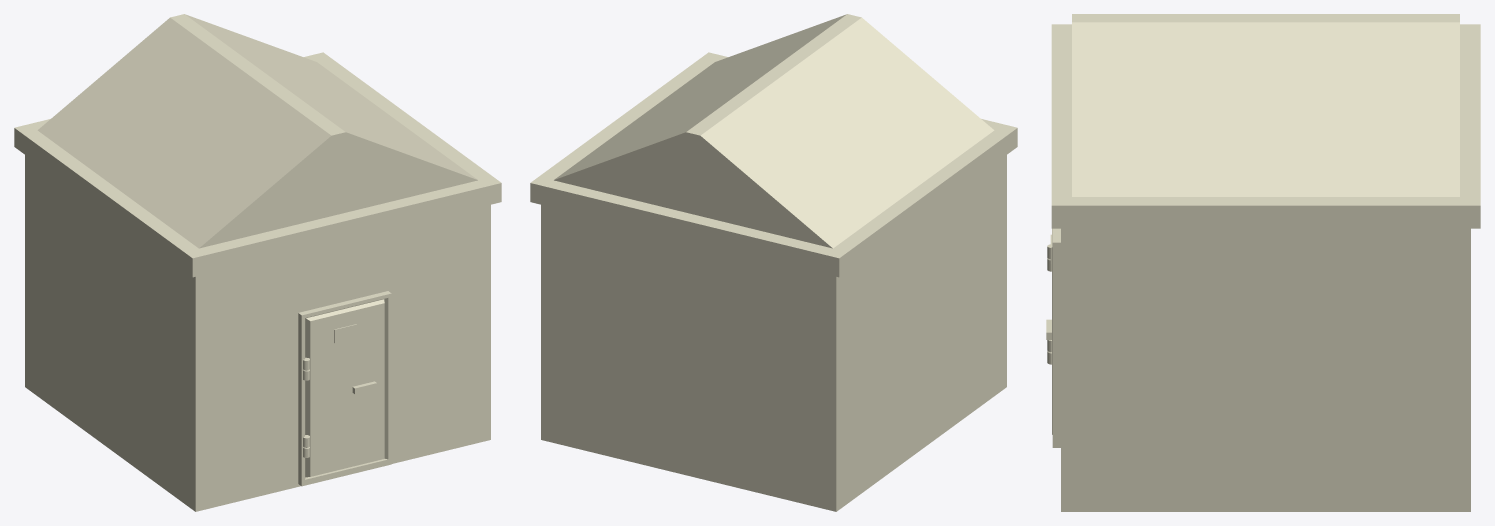
File: SmallRoofBuildings.fbx
3 renders of one model, left to right at view 1: azimuth 30°, elevation 25°; view 2: azimuth 150°, elevation 25°; view 3: azimuth 270°, elevation 25°, orthographic. The views are drawn at different scales.
Visible parts, largest first — view 1: SmallRoofBuilding, Door; view 2: SmallRoofBuilding; view 3: SmallRoofBuilding, Door.
Boxes of the visible parts, x1,y1,x2,y2 form: SmallRoofBuilding: (14,14,501,511); Door: (303,299,384,477); SmallRoofBuilding: (530,14,1017,511); SmallRoofBuilding: (1051,14,1480,511); Door: (1046,228,1052,434).
Size of the model in its own units: 837 by 877 by 847.
